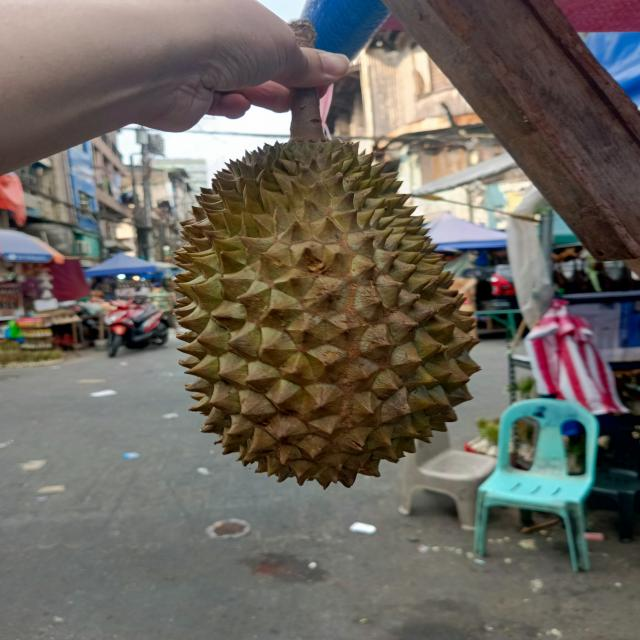mature: (169, 131, 480, 487)
